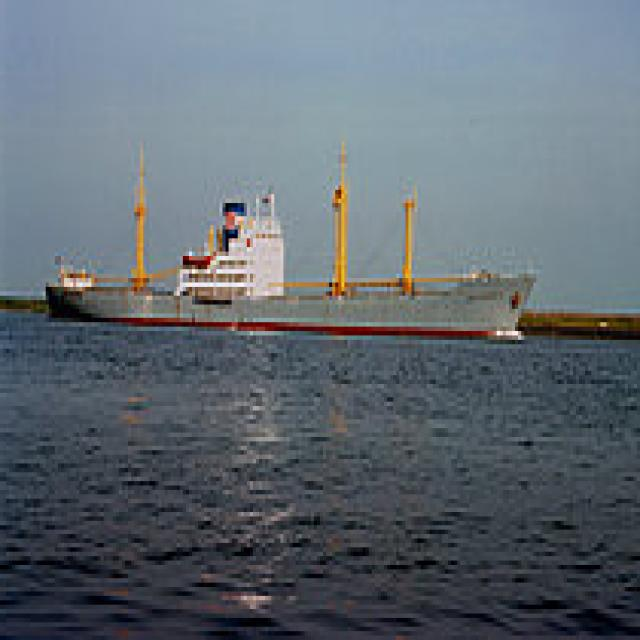Cargo: (45, 128, 542, 340)
